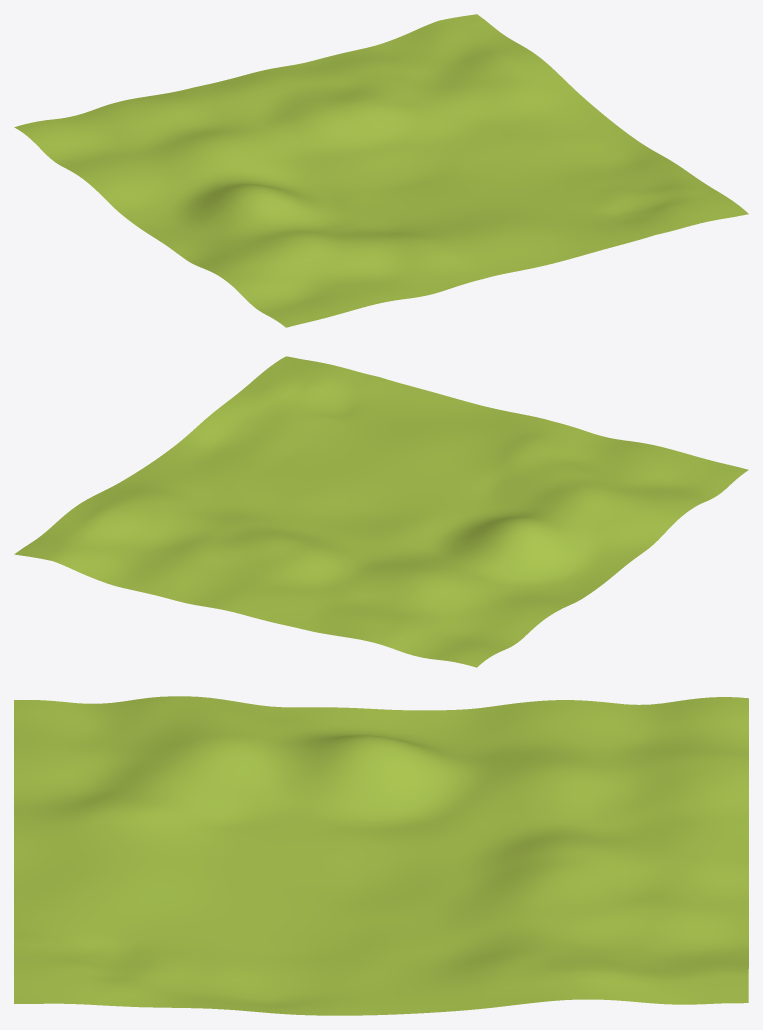
The model's file is chemin_courve1.fbx.
3 views of the same model, one above another, from view 1: azimuth 30°, elevation 25°; view 2: azimuth 150°, elevation 25°; view 3: azimuth 270°, elevation 25° (orthographic). The views are drawn at different scales.
Parts seen in each view (by area): view 1: chemin_courve1; view 2: chemin_courve1; view 3: chemin_courve1.
Boxes of the visible parts, x1,y1,x2,y2 form: chemin_courve1: [14, 14, 748, 327]; chemin_courve1: [14, 356, 748, 667]; chemin_courve1: [14, 696, 748, 1015].
Bounding box in the file's own units: 708 × 40.02 × 720.
